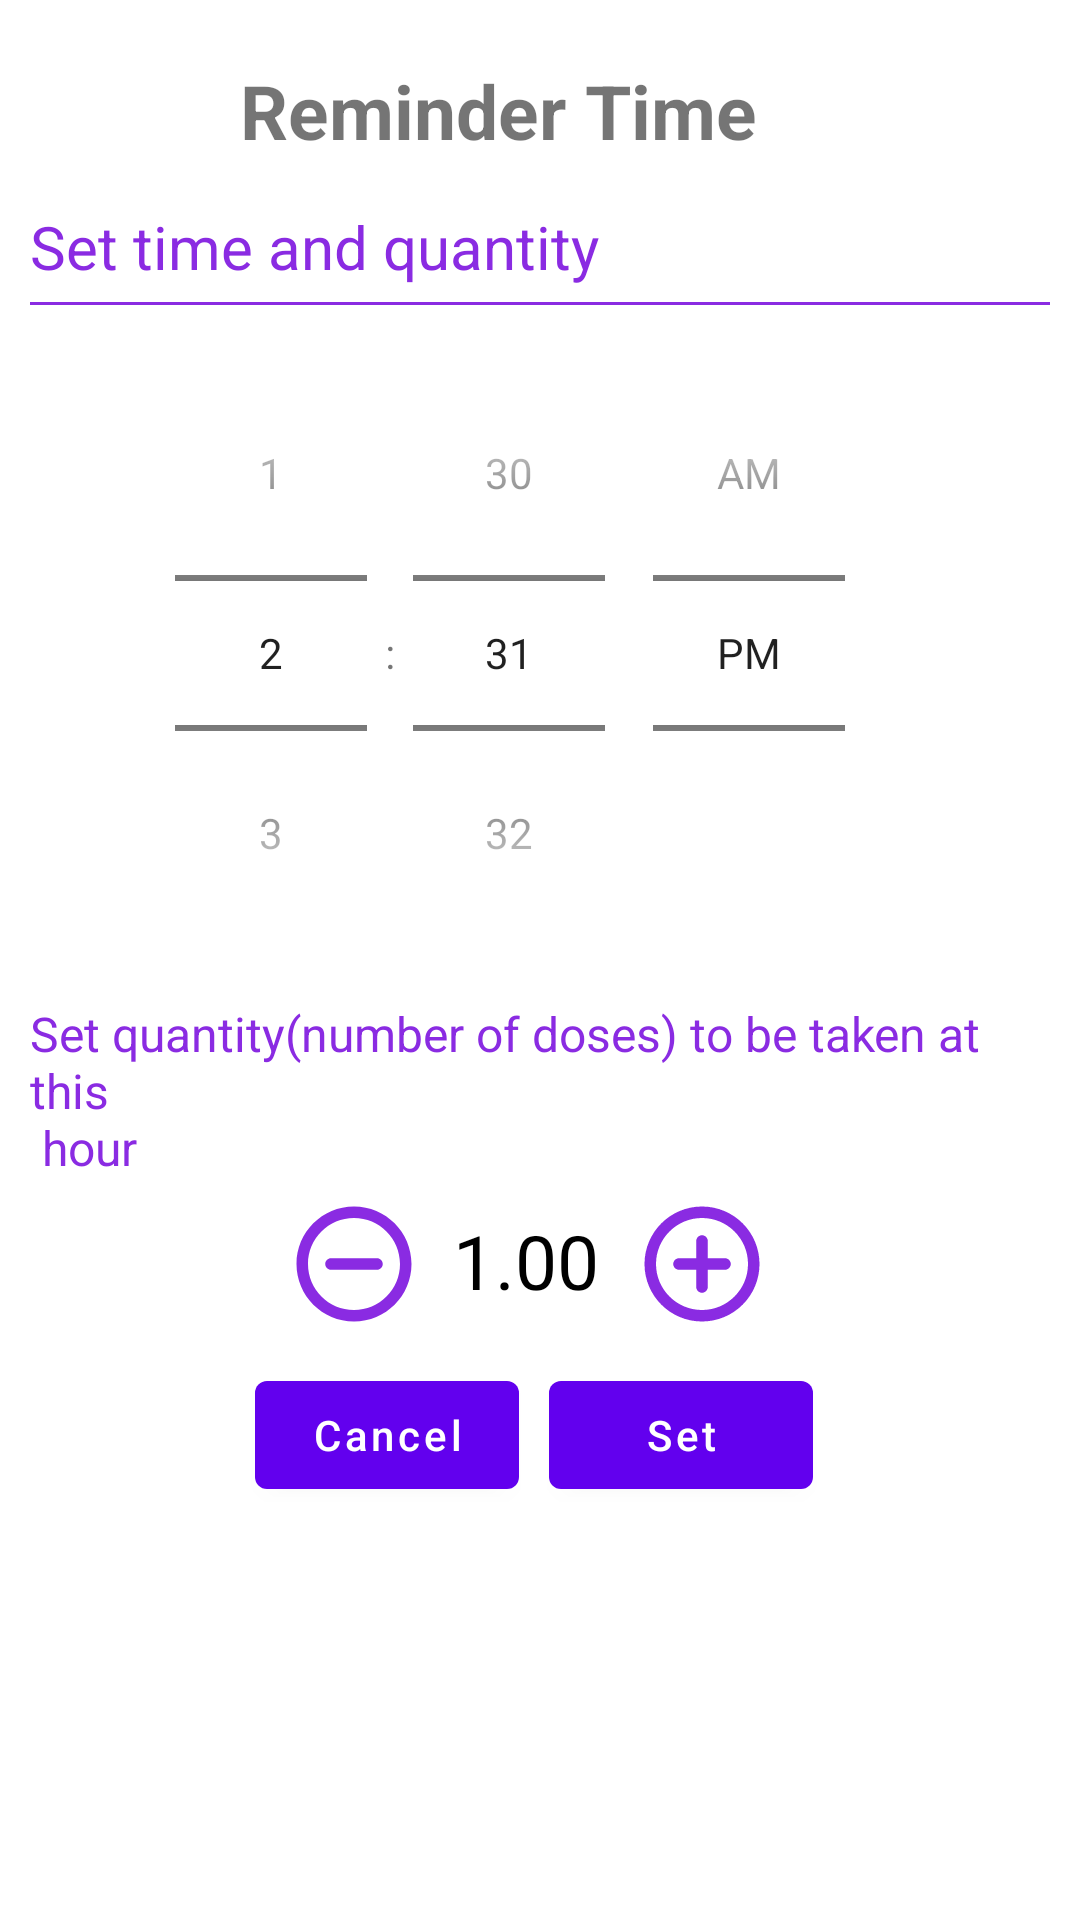

Where icons sit on this 1080 x 1920 app screen, as (x1, y1, x2, y2):
add circle: (644, 1206, 760, 1322)
remove circle: (296, 1206, 412, 1322)
